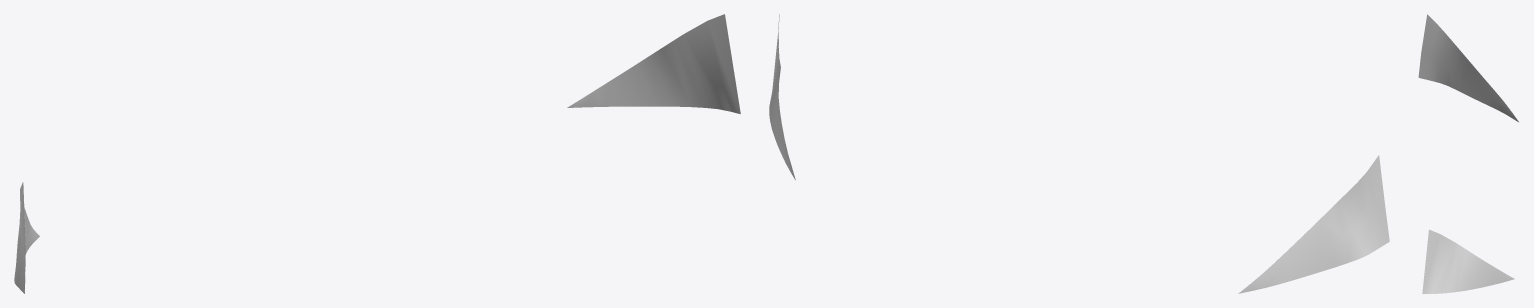
The model's file is Jac_Flic_BOTTOM_BACK.glb.
3 views of the same model, side by side, from view 1: azimuth 30°, elevation 25°; view 2: azimuth 150°, elevation 25°; view 3: azimuth 270°, elevation 25° (orthographic). The views are drawn at different scales.
Parts seen in each view (by area): view 1: Jac_Main1_2.001; view 2: Jac_Main1_2.001; view 3: Jac_Main1_2.001.
Boxes of the visible parts, box(x1,y1,x2,y2) form: Jac_Main1_2.001: box(14, 14, 740, 293); Jac_Main1_2.001: box(769, 14, 1389, 293); Jac_Main1_2.001: box(1418, 14, 1518, 293).
Size of the model in its own units: 0.693 by 0.1205 by 0.136.
Materials: 1 (1 with a texture image).
